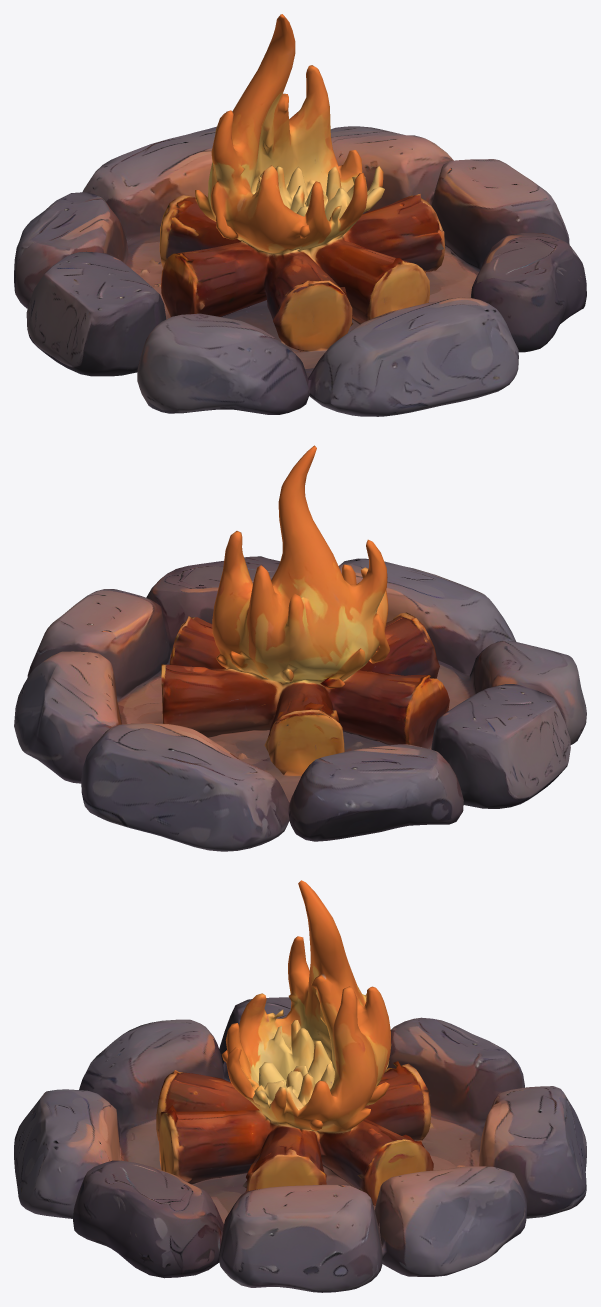
File: fire.glb
3 views of the same model, one above another, from view 1: azimuth 30°, elevation 25°; view 2: azimuth 150°, elevation 25°; view 3: azimuth 270°, elevation 25° (orthographic).
Parts seen in each view (by area): view 1: tripo_node_7b08e2a5-ace7-4115-9b58-3640ec50fd65; view 2: tripo_node_7b08e2a5-ace7-4115-9b58-3640ec50fd65; view 3: tripo_node_7b08e2a5-ace7-4115-9b58-3640ec50fd65.
Boxes of the visible parts, x1,y1,x2,y2 form: tripo_node_7b08e2a5-ace7-4115-9b58-3640ec50fd65: (14,14,586,416); tripo_node_7b08e2a5-ace7-4115-9b58-3640ec50fd65: (14,445,586,851); tripo_node_7b08e2a5-ace7-4115-9b58-3640ec50fd65: (14,880,586,1292).
Size of the model in its own units: 0.9884 by 0.5706 by 0.9997.
1 material, 1 textured.
